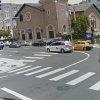Crosswalk: (7, 49, 97, 100)
